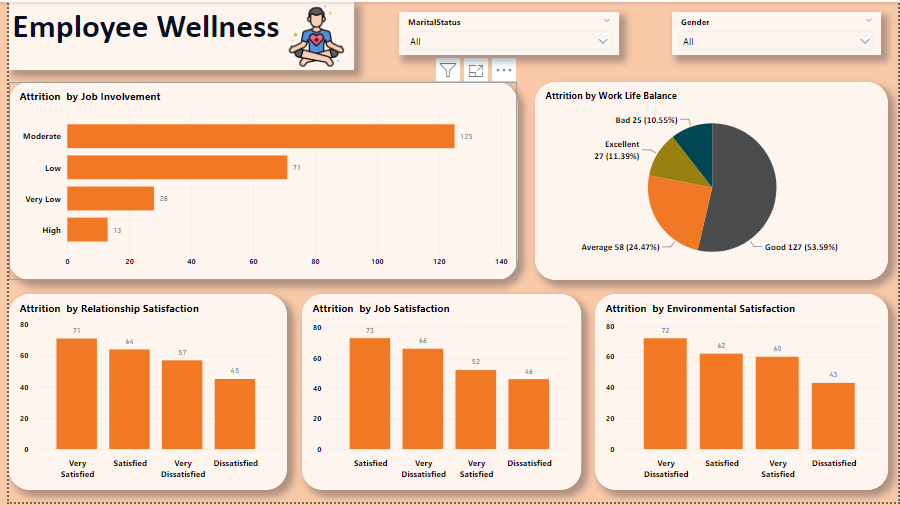

Layout of this report page (visuals, bound fields, positions):
{"tool":"powerbi","page":{"name":"employee  wellness ","canvas":[1280,720],"ordinal":4},"visuals":[{"type":"textbox","box":[0,0,496.8,97.9],"z":0},{"type":"barChart","title":" Attrition  by Job Involvement ","fields":{"Category":["HR-Employee-Attrition.JobInvolvement (groups)"],"Y":["Sum(HR-Employee-Attrition.Attrition Count)"]},"box":[0,115.2,731.5,285.1],"z":1000},{"type":"clusteredColumnChart","title":" Attrition  by Environmental Satisfaction ","fields":{"Y":["Sum(HR-Employee-Attrition.Attrition Count)"],"Category":["HR-Employee-Attrition.EnvironmentSatisfaction (groups)"]},"box":[843.8,420.5,421.9,282.2],"z":2000},{"type":"clusteredColumnChart","title":" Attrition  by Job Satisfaction ","fields":{"Y":["Sum(HR-Employee-Attrition.Attrition Count)"],"Category":["HR-Employee-Attrition.JobSatisfaction (groups)"]},"box":[421.9,420.5,401.8,282.2],"z":3000},{"type":"columnChart","title":" Attrition  by Relationship Satisfaction ","fields":{"Category":["HR-Employee-Attrition.RelationshipSatisfaction (groups)"],"Y":["Sum(HR-Employee-Attrition.Attrition Count)"]},"box":[0,420.5,400.3,282.2],"z":4000},{"type":"pieChart","title":" Attrition by Work Life Balance ","fields":{"Category":["HR-Employee-Attrition.WorkLifeBalance (groups)"],"Y":["Sum(HR-Employee-Attrition.Attrition Count)"]},"box":[757.4,115.2,508.3,285.1],"z":5000},{"type":"image","box":[365.8,0,154.1,97.9],"z":6000},{"type":"slicer","fields":{"Values":["HR-Employee-Attrition.MaritalStatus"]},"box":[561.6,14.4,316.8,61.9],"z":7000},{"type":"slicer","fields":{"Values":["HR-Employee-Attrition.Gender"]},"box":[954.7,14.4,301,61.9],"z":8000}]}

Visuals, with their boxes in screenshot pixels (x1, y1, x2, y2), scaled from the page's 1280x720 canvas onto the 900x506 screenshot:
textbox: region(0, 0, 349, 69)
" Attrition  by Job Involvement " barChart: region(0, 81, 514, 281)
" Attrition  by Environmental Satisfaction " clusteredColumnChart: region(593, 296, 890, 494)
" Attrition  by Job Satisfaction " clusteredColumnChart: region(297, 296, 579, 494)
" Attrition  by Relationship Satisfaction " columnChart: region(0, 296, 281, 494)
" Attrition by Work Life Balance " pieChart: region(533, 81, 890, 281)
image: region(257, 0, 366, 69)
slicer - HR-Employee-Attrition.MaritalStatus: region(395, 10, 618, 54)
slicer - HR-Employee-Attrition.Gender: region(671, 10, 883, 54)
